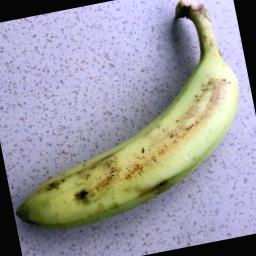Banana Ripe: (0, 0, 256, 243)
